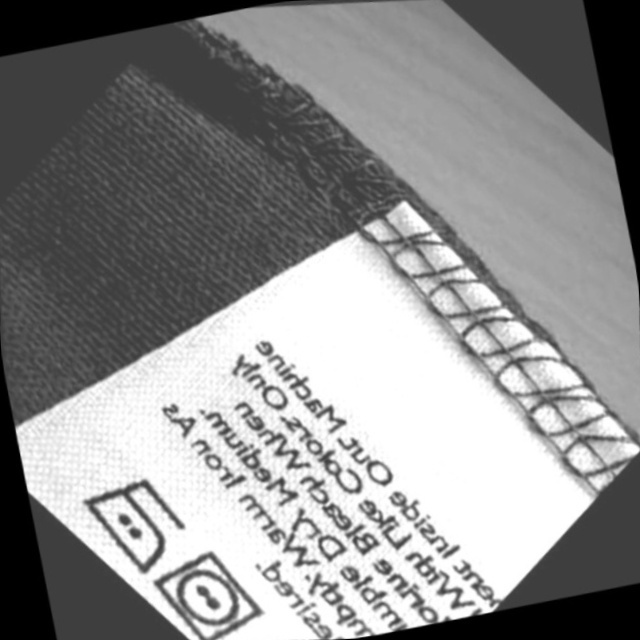iron_medium: (56, 454, 205, 595)
tumble_dry_medium: (131, 528, 281, 640)
